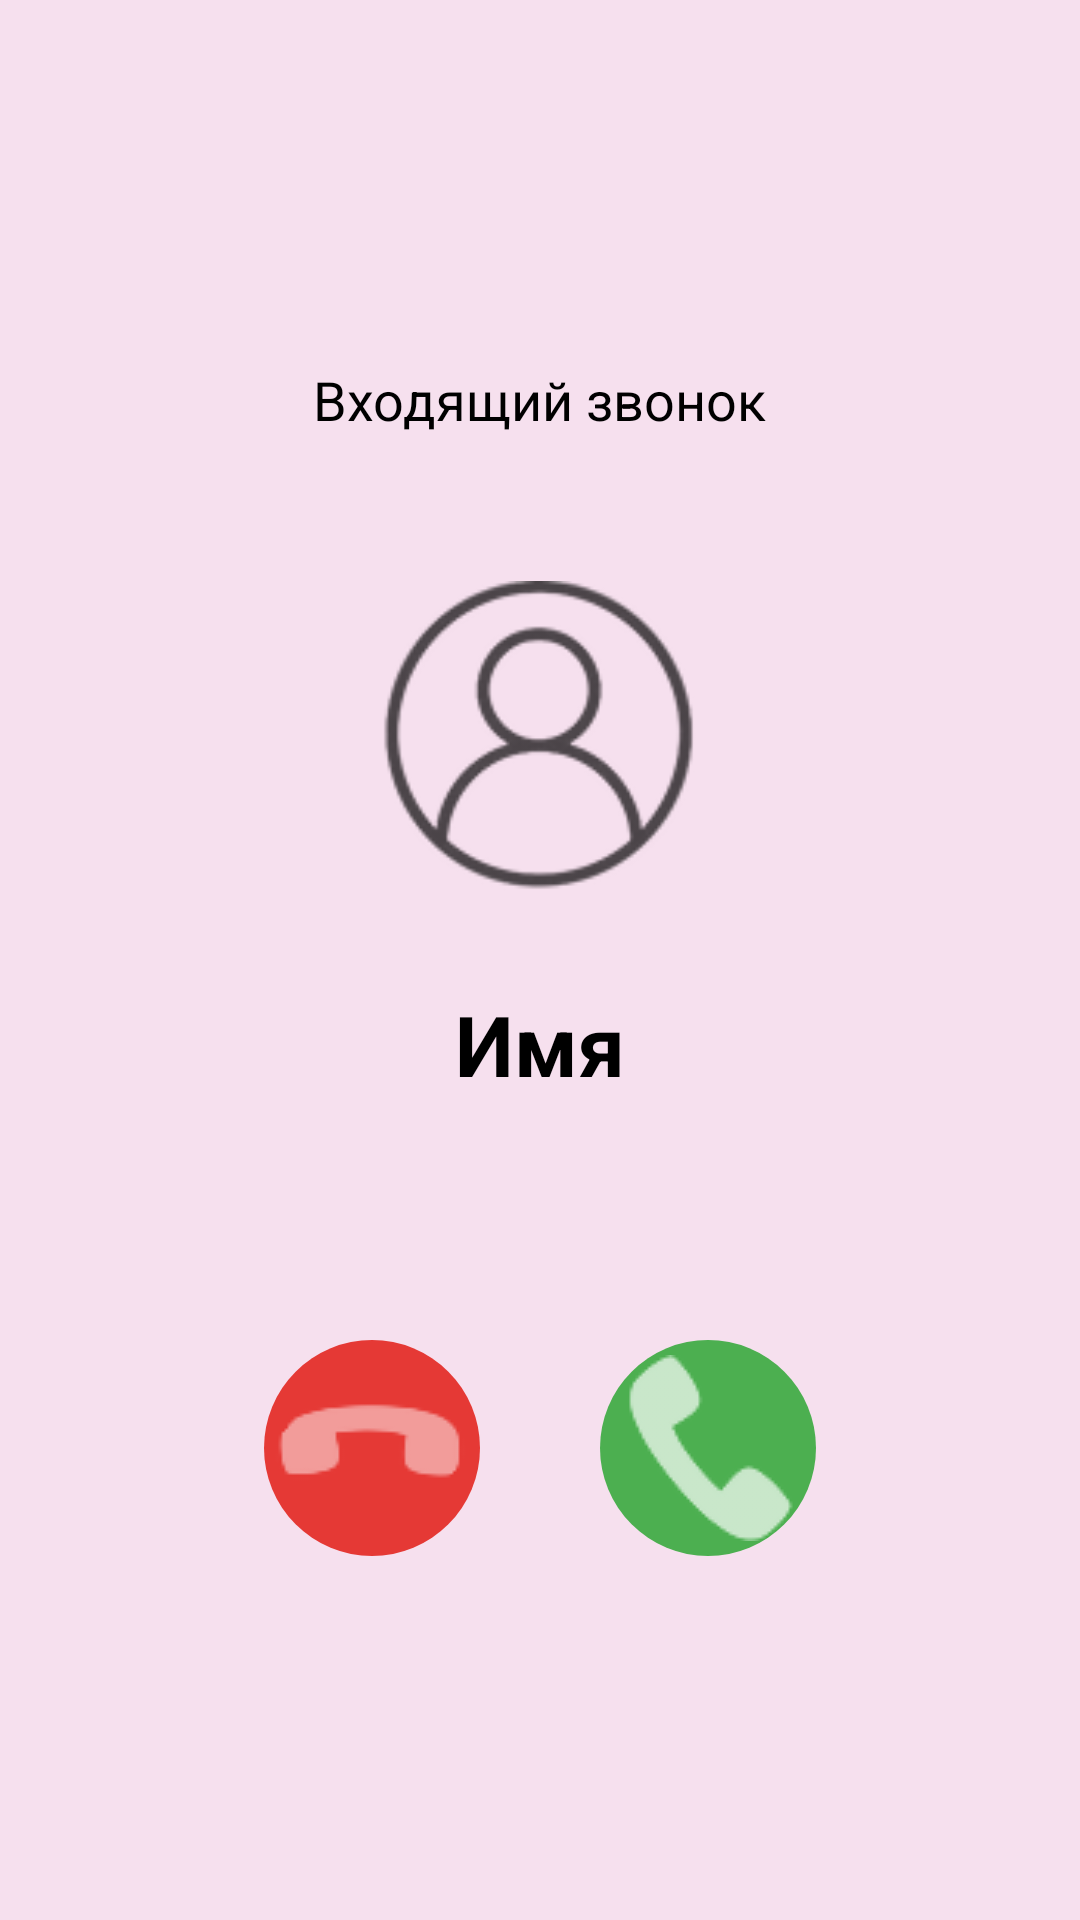

Screen size 1080x1920. Icon name, then its box in pixels as BBox(x1, y1, x2, y2):
phone: BBox(264, 1340, 480, 1556), BBox(600, 1340, 816, 1556)
profile: BBox(384, 581, 693, 889)
